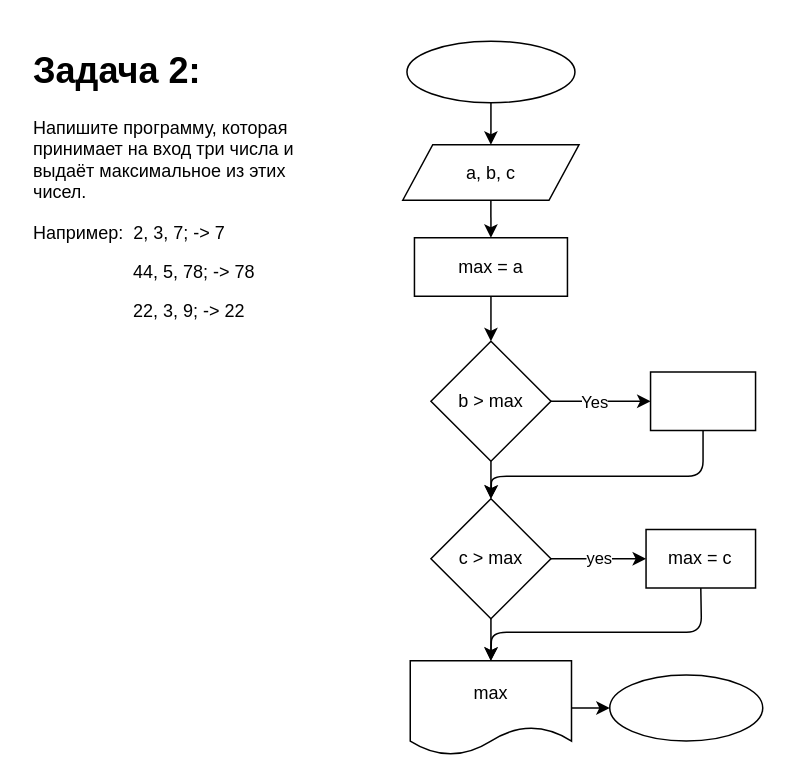
This 789x782 diagram has some shape labels left out. Each missing label, with the box of its shape:
Finish: (608, 674, 763, 741)
max = b: (649, 370, 756, 430)
Start: (405, 40, 575, 103)
